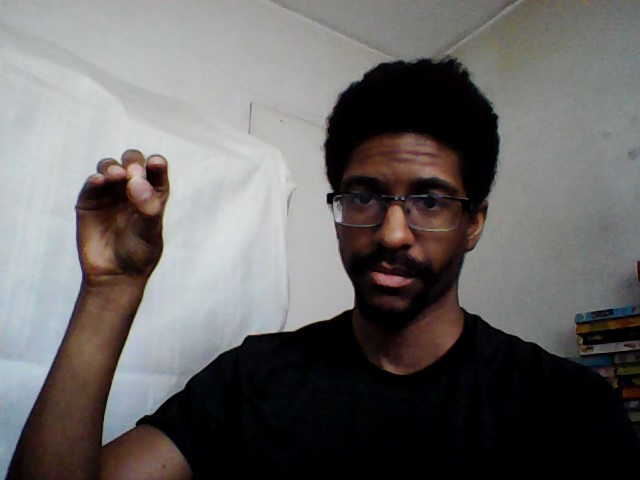o: (71, 146, 175, 284)
